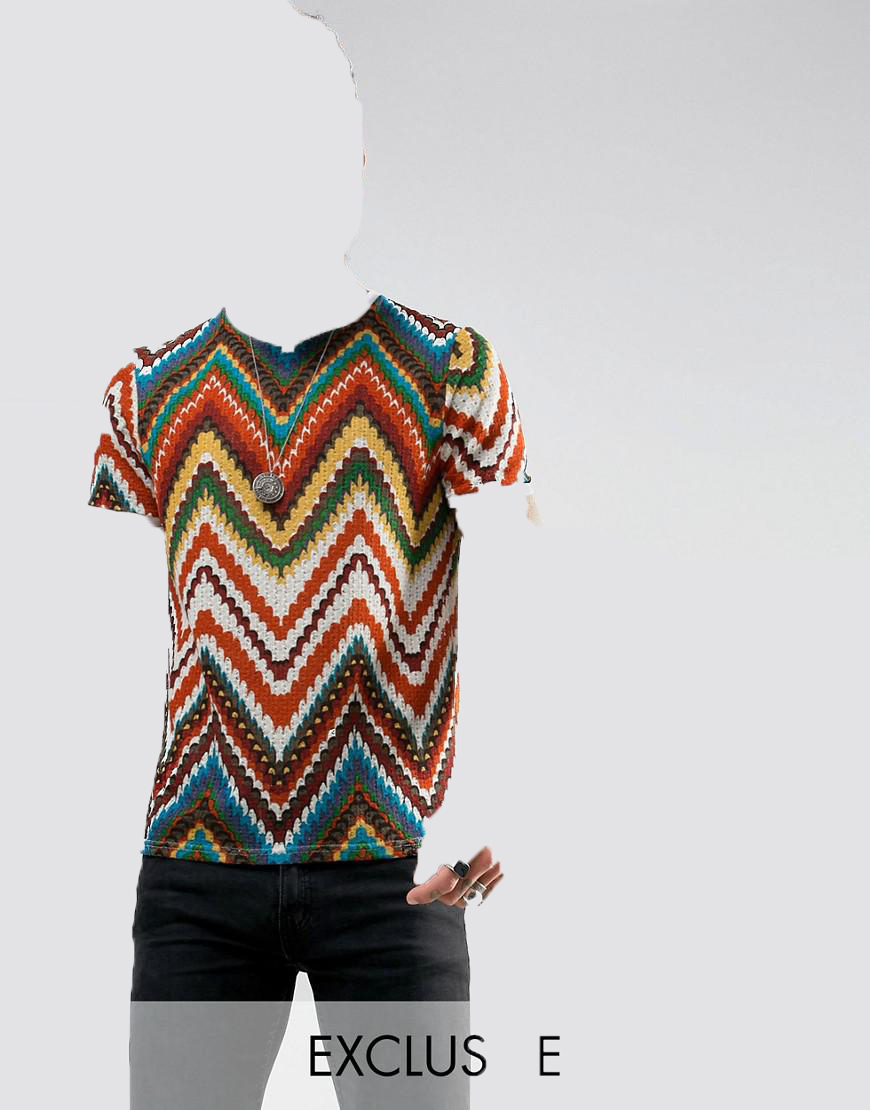teeshirt: (83, 290, 532, 910)
